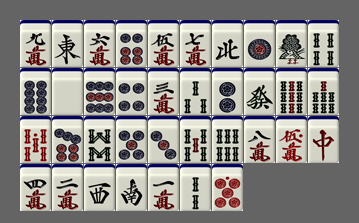0m: (276, 116, 307, 163)
0p: (212, 164, 243, 211)
0s: (20, 116, 51, 163)
1m: (148, 164, 179, 211)
1p: (244, 20, 275, 67)
1s: (276, 20, 307, 67)
1z: (52, 20, 83, 67)
2m: (52, 164, 83, 211)
2p: (212, 68, 243, 115)
2s: (180, 164, 211, 211)
2z: (116, 164, 147, 211)
3m: (148, 68, 179, 115)
3p: (148, 116, 179, 163)
3s: (180, 68, 211, 115)
3z: (84, 164, 115, 211)
4m: (20, 164, 51, 211)
4p: (116, 68, 147, 115)
4s: (308, 20, 339, 67)
4z: (212, 20, 243, 67)
5m: (148, 20, 179, 67)
5p: (116, 116, 147, 163)
5s: (180, 116, 211, 163)
5z: (52, 68, 83, 115)
6m: (84, 20, 115, 67)
6p: (116, 20, 147, 67)
6s: (212, 116, 243, 163)
6z: (244, 68, 275, 115)
7m: (180, 20, 211, 67)
7p: (52, 116, 83, 163)
7s: (308, 68, 339, 115)
7z: (308, 116, 339, 163)
8m: (244, 116, 275, 163)
8p: (20, 68, 51, 115)
8s: (84, 116, 115, 163)
9m: (20, 20, 51, 67)
9p: (84, 68, 115, 115)
9s: (276, 68, 307, 115)
